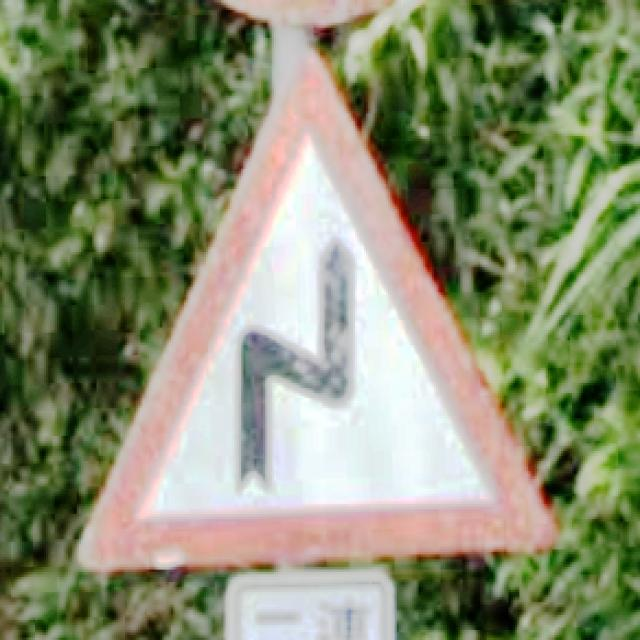doublebendright: (81, 50, 557, 572)
